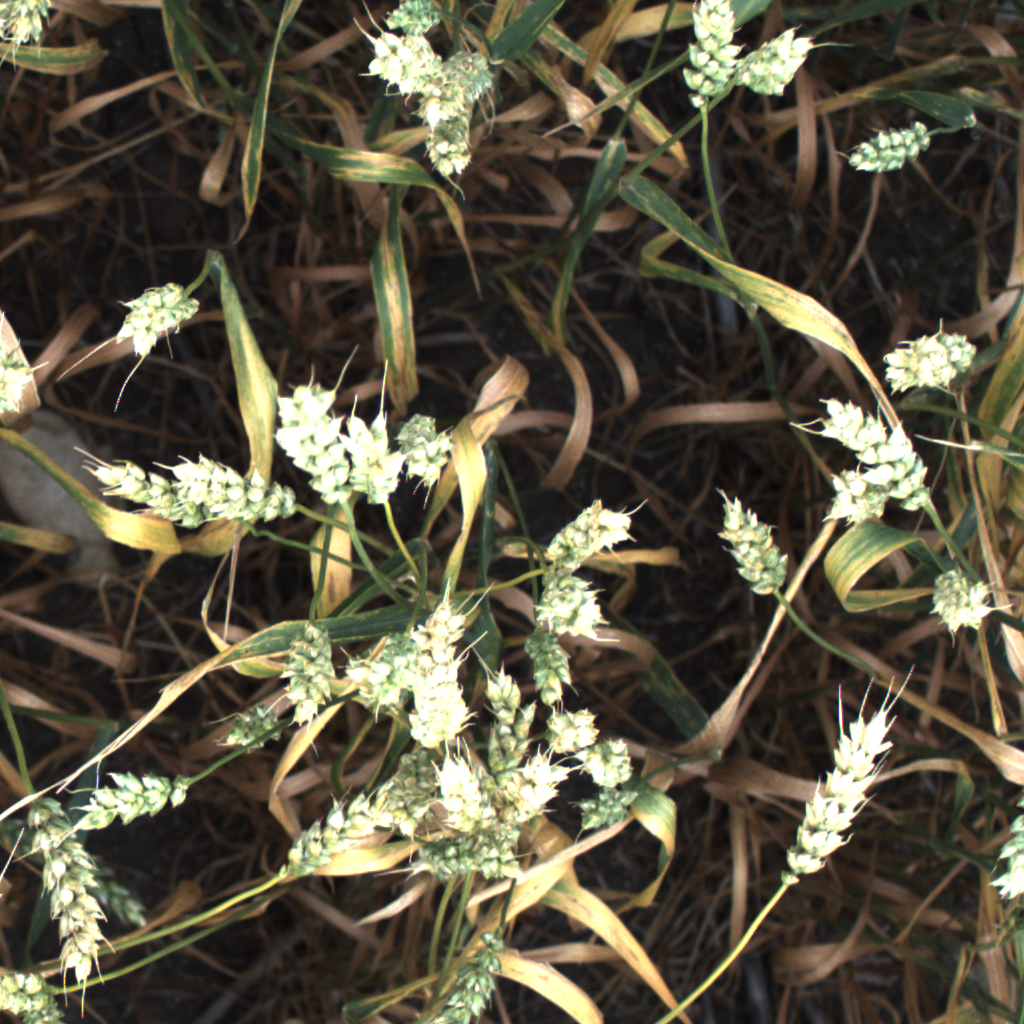wheat_head: (767, 690, 901, 894), (17, 790, 123, 998), (272, 766, 443, 884), (801, 391, 943, 519), (147, 433, 302, 539), (261, 371, 360, 514), (70, 443, 221, 536), (53, 758, 204, 838), (418, 44, 499, 189), (408, 591, 472, 766), (94, 269, 210, 365), (707, 488, 796, 608), (670, 0, 759, 119), (528, 488, 638, 581), (720, 13, 820, 109), (339, 622, 437, 717), (912, 552, 1005, 652), (838, 104, 945, 190), (268, 612, 344, 732), (338, 395, 410, 518), (414, 936, 514, 1024), (873, 321, 982, 399), (358, 23, 458, 107), (518, 562, 615, 648), (409, 820, 528, 885), (479, 655, 540, 780), (431, 740, 500, 838), (494, 754, 575, 836), (211, 680, 295, 756), (515, 613, 578, 709), (817, 465, 904, 531), (566, 785, 656, 844), (402, 408, 459, 498), (0, 952, 67, 1024), (0, 335, 52, 425), (986, 791, 1024, 913), (570, 732, 643, 790), (534, 704, 607, 758), (0, 0, 64, 61), (380, 0, 449, 37)
